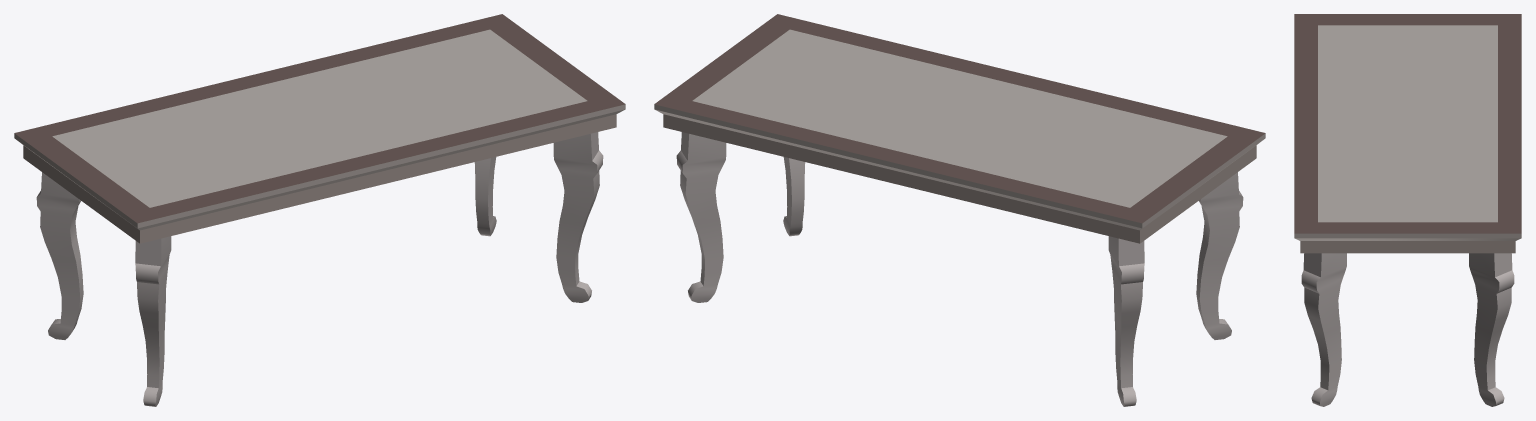
Rendered from SM_DinnerTableWhiteBrown_01.fbx.
3 views of the same model, side by side, from view 1: azimuth 30°, elevation 25°; view 2: azimuth 150°, elevation 25°; view 3: azimuth 270°, elevation 25° (orthographic). The views are drawn at different scales.
Visible parts, largest first — view 1: SM_DinnerTableWhiteBrown_01; view 2: SM_DinnerTableWhiteBrown_01; view 3: SM_DinnerTableWhiteBrown_01.
Part boxes in pixels (<box>): SM_DinnerTableWhiteBrown_01: <box>14,14,625,406</box>; SM_DinnerTableWhiteBrown_01: <box>654,14,1265,406</box>; SM_DinnerTableWhiteBrown_01: <box>1294,14,1521,406</box>.
Bounding box in the file's own units: 185 × 72.41 × 80.79.
